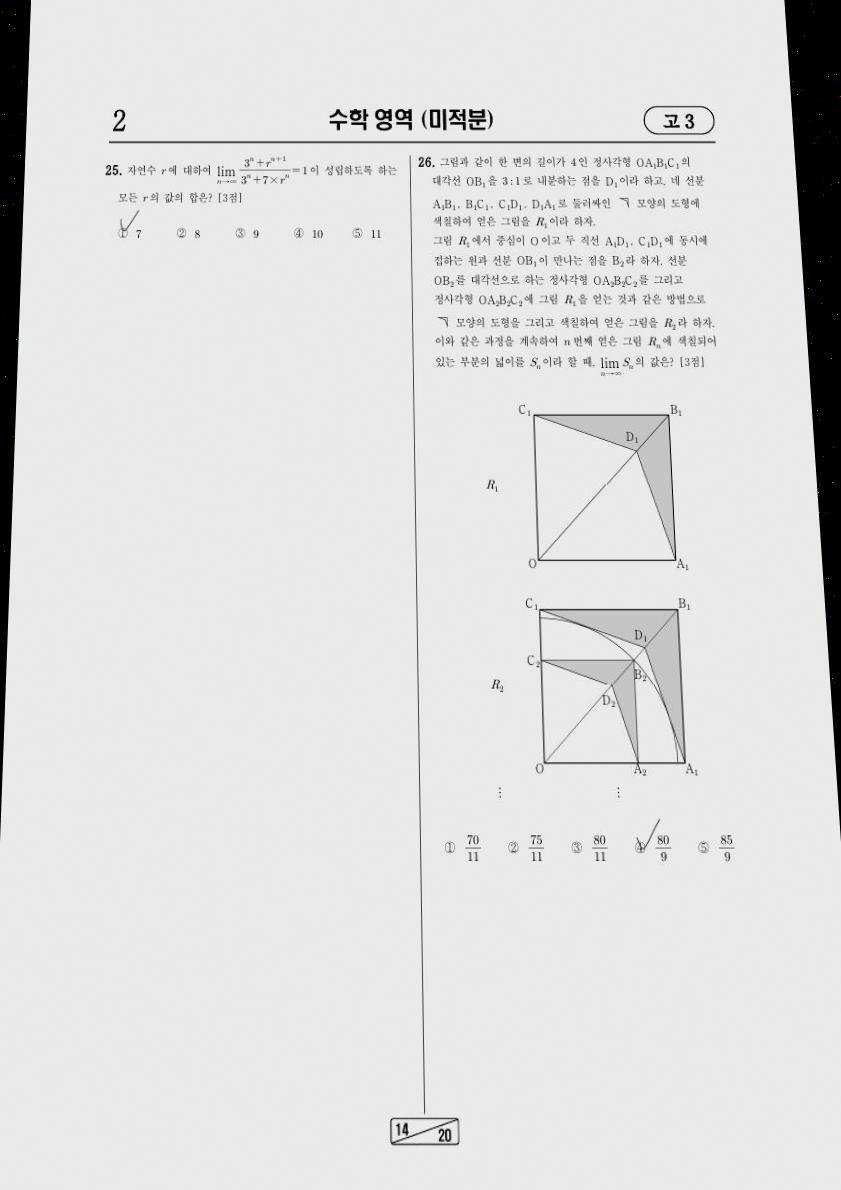question: (409, 146, 748, 881), (95, 149, 402, 256)
